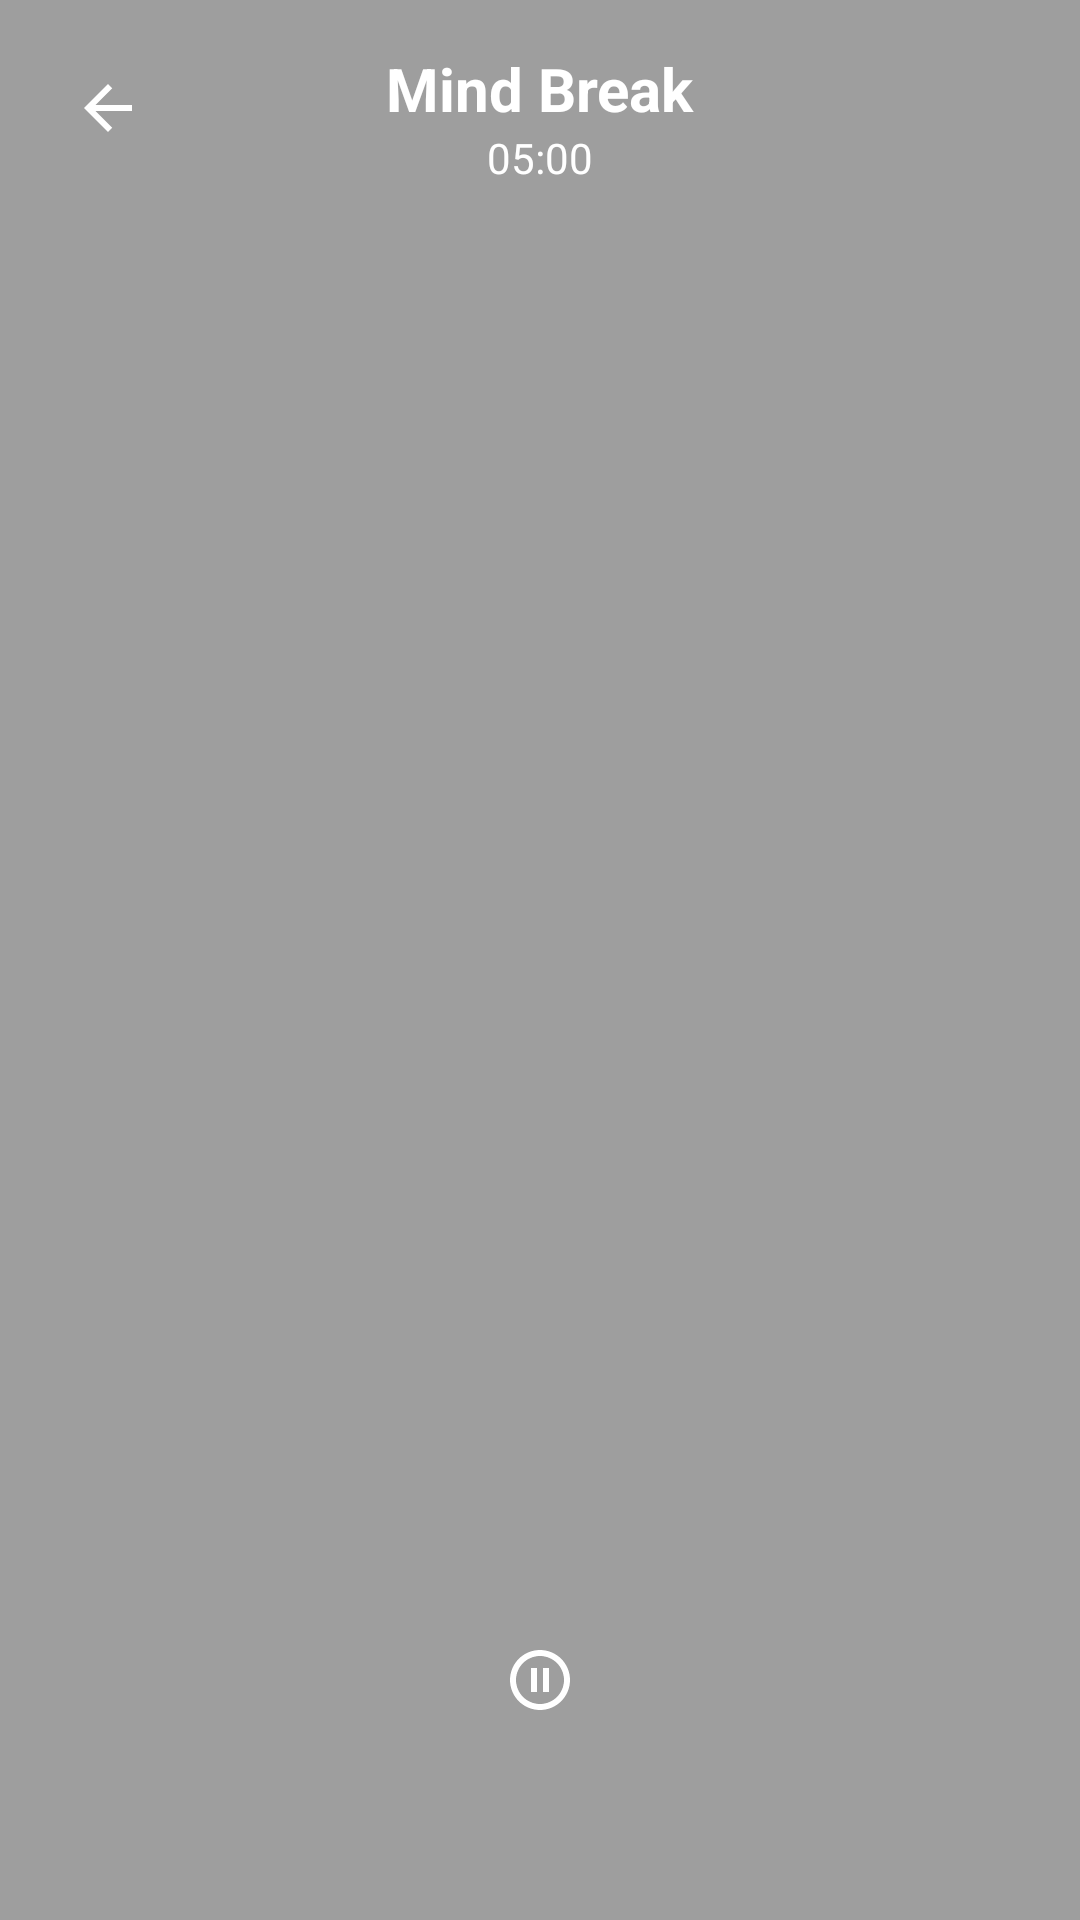

Screen size 1080px x 1920px. Icon name, then its center in pixels as (x,y):
arrow back: (108,108)
pause circle: (540,1680)
